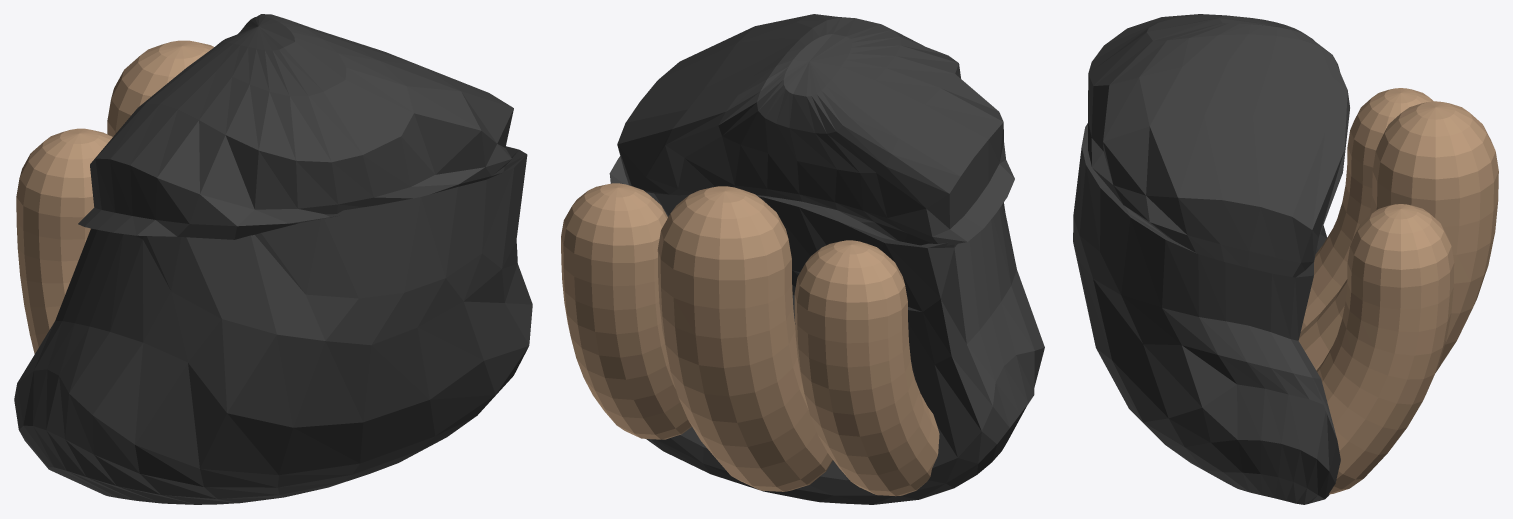
The model's file is hand_primate.glb.
3 views of the same model, side by side, from view 1: azimuth 30°, elevation 25°; view 2: azimuth 150°, elevation 25°; view 3: azimuth 270°, elevation 25° (orthographic). The views are drawn at different scales.
Parts seen in each view (by area): view 1: hand_primate_fur, hand_primate_claws; view 2: hand_primate_fur, hand_primate_claws; view 3: hand_primate_fur, hand_primate_claws.
Boxes of the visible parts, <box> form: hand_primate_fur: <box>14,14,532,504</box>; hand_primate_claws: <box>16,40,213,353</box>; hand_primate_fur: <box>609,14,1044,504</box>; hand_primate_claws: <box>561,183,939,496</box>; hand_primate_fur: <box>1073,14,1349,504</box>; hand_primate_claws: <box>1298,88,1498,494</box>.
Bounding box in the file's own units: 1.48 × 1.43 × 1.26.
